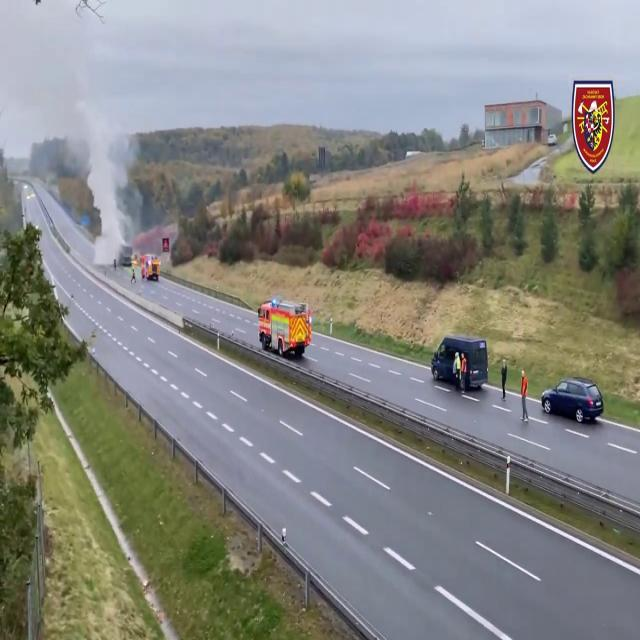Smoke: (1, 2, 163, 258), (69, 96, 163, 258)
